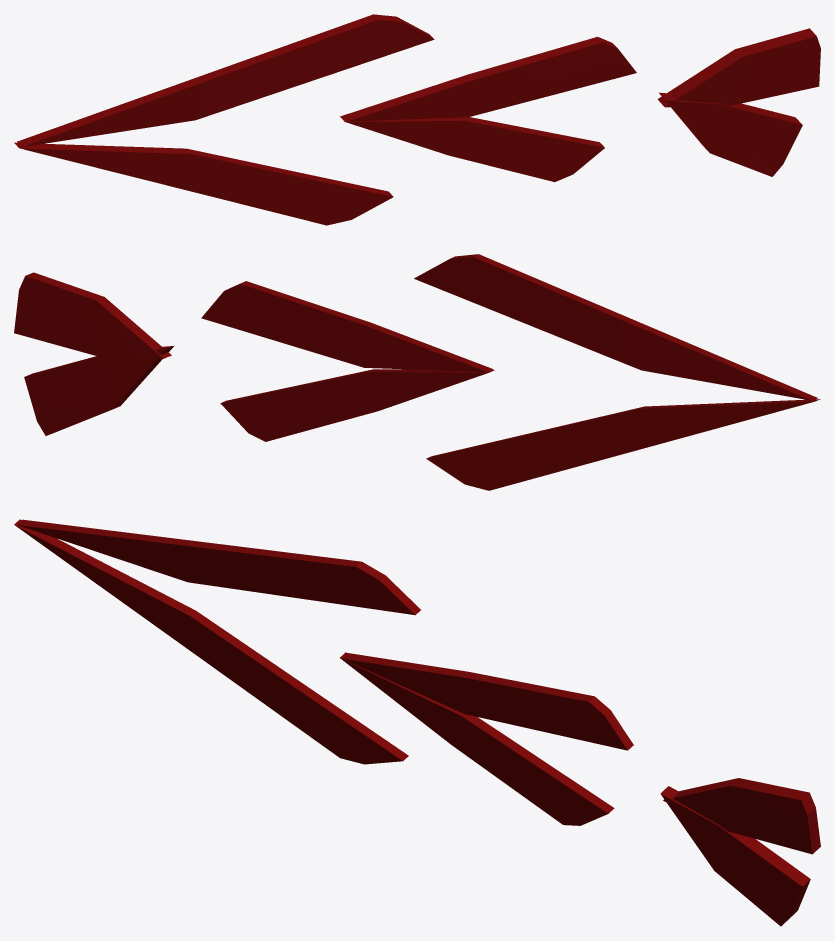
The model's file is GuitarShot.fbx.
3 renders of one model, top to bottom at view 1: azimuth 30°, elevation 25°; view 2: azimuth 150°, elevation 25°; view 3: azimuth 330°, elevation 25°, orthographic.
Visible parts, largest first — view 1: Box002, Box001, Box004, Box003, Box006, Box005; view 2: Box002, Box001, Box004, Box003, Box006, Box005; view 3: Box002, Box001, Box004, Box003, Box006, Box005.
Part boxes in pixels (x1,y1,x2,y2): Box002: (17,14,434,147); Box001: (14,142,393,225); Box004: (341,36,636,121); Box003: (340,116,604,182); Box006: (657,28,820,107); Box005: (659,92,802,176); Box002: (414,254,817,400); Box001: (426,399,820,490); Box004: (201,281,493,372); Box003: (220,369,494,441); Box006: (14,272,171,358); Box005: (24,346,173,435); Box002: (17,519,420,615); Box001: (14,519,408,764); Box004: (341,653,633,750); Box003: (340,652,614,825); Box006: (663,778,820,854); Box005: (660,786,810,926).
Bounding box in the file's own units: 77.98 × 25.07 × 3.96.
